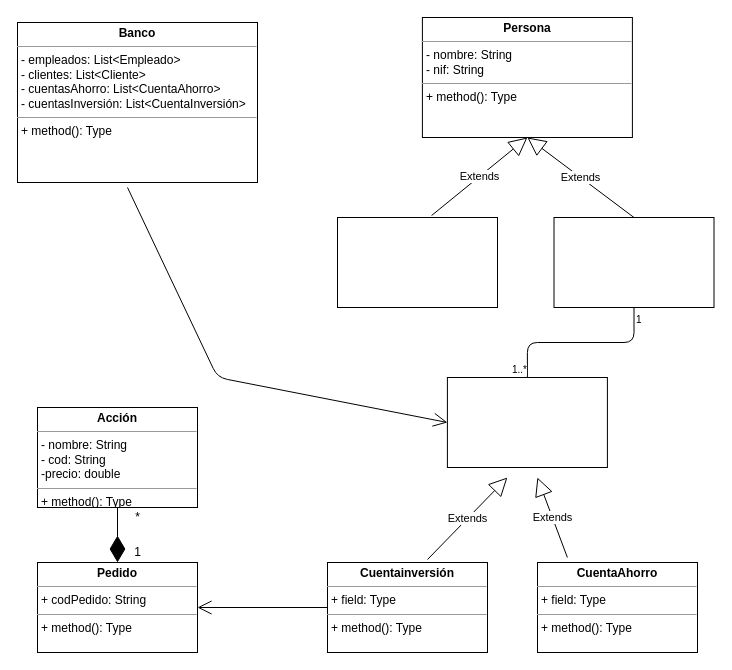
This 732x670 diagram has some shape labels left out. Here are the shapes that lost their labels. From the top down, the centre of each, then its label:
At (417,262): "Empleado - codEmpleado: String + ficharHorario(): Type".
At (633,262): "Cliente - codClient: String + crearCuenta(): Type".
At (526,422): "Cuenta - código: String - titular: Cliente + method(): Type".
